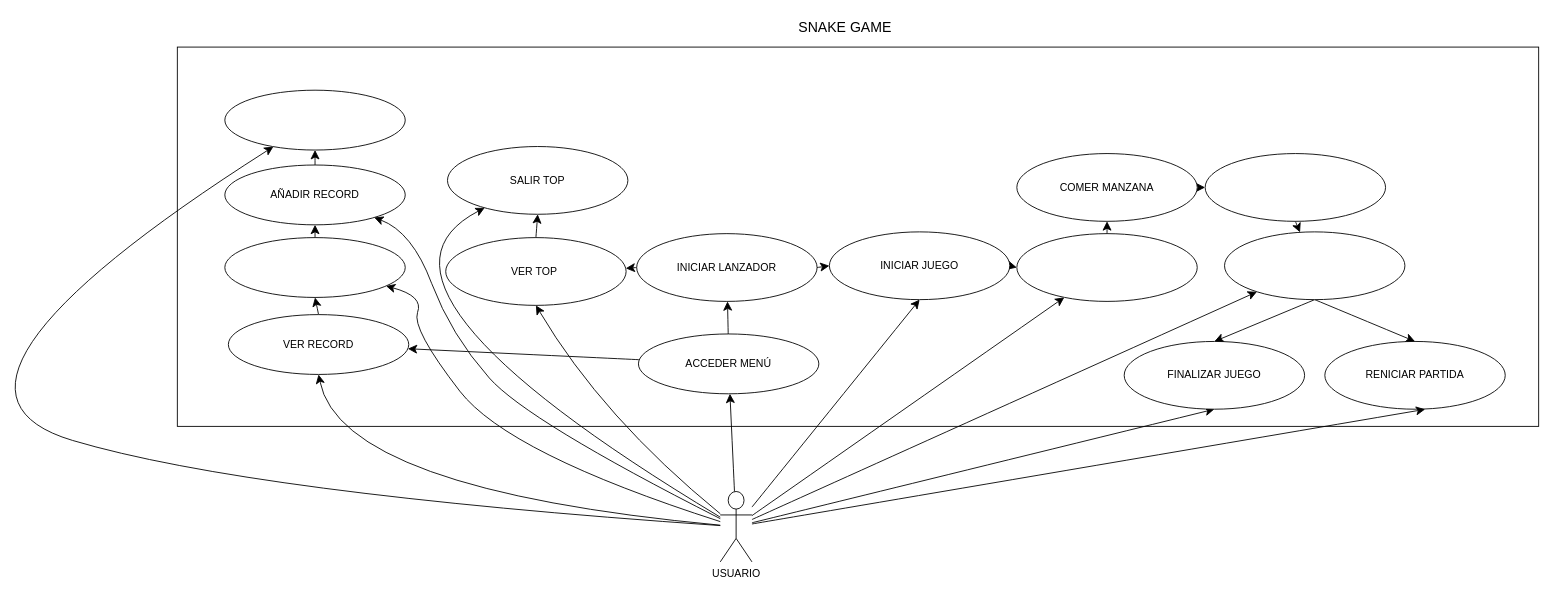
The diagram is 1555 pixels wide and 608 high, and some of its shapes have lost their labels. The centre of each missing label's shape, as x and y in pixels:
MODIFICAR NOMBRE: pixel 314 267
MOVER SERPIENTE: pixel 1106 267
PERDER PARTIDA: pixel 1295 187
REGUISTRAR PUNTUACIÓN/NOMBRE: pixel 1314 265
SALIR APP: pixel 314 119
